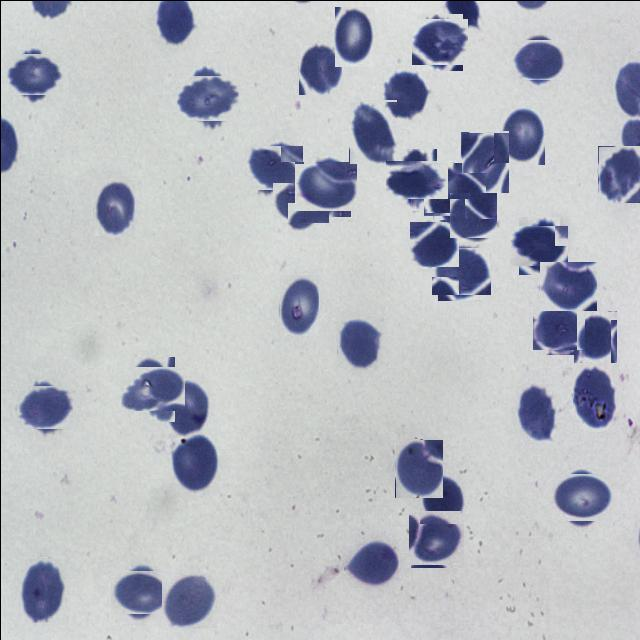red blood cell: (160, 572, 216, 628), (297, 158, 353, 214), (572, 363, 618, 431), (348, 100, 396, 164), (18, 556, 64, 622), (125, 361, 179, 416), (170, 432, 218, 493), (460, 131, 508, 192), (554, 470, 608, 524), (180, 70, 234, 124), (408, 512, 462, 566), (434, 244, 488, 297), (540, 261, 598, 310), (394, 438, 442, 497), (342, 537, 398, 587), (428, 167, 480, 220), (115, 565, 167, 617), (413, 16, 465, 68), (248, 141, 300, 193), (498, 108, 544, 166), (165, 378, 209, 437), (19, 381, 69, 431), (8, 48, 58, 98), (514, 220, 564, 270), (392, 154, 442, 204), (278, 273, 318, 335), (336, 314, 380, 370), (597, 145, 640, 202), (334, 6, 374, 66), (92, 178, 134, 235), (516, 383, 556, 442), (276, 178, 324, 227), (534, 304, 582, 352), (410, 220, 458, 268), (384, 67, 428, 119), (572, 310, 616, 362), (298, 41, 341, 94), (419, 474, 464, 524), (514, 36, 560, 82), (450, 192, 496, 238)
